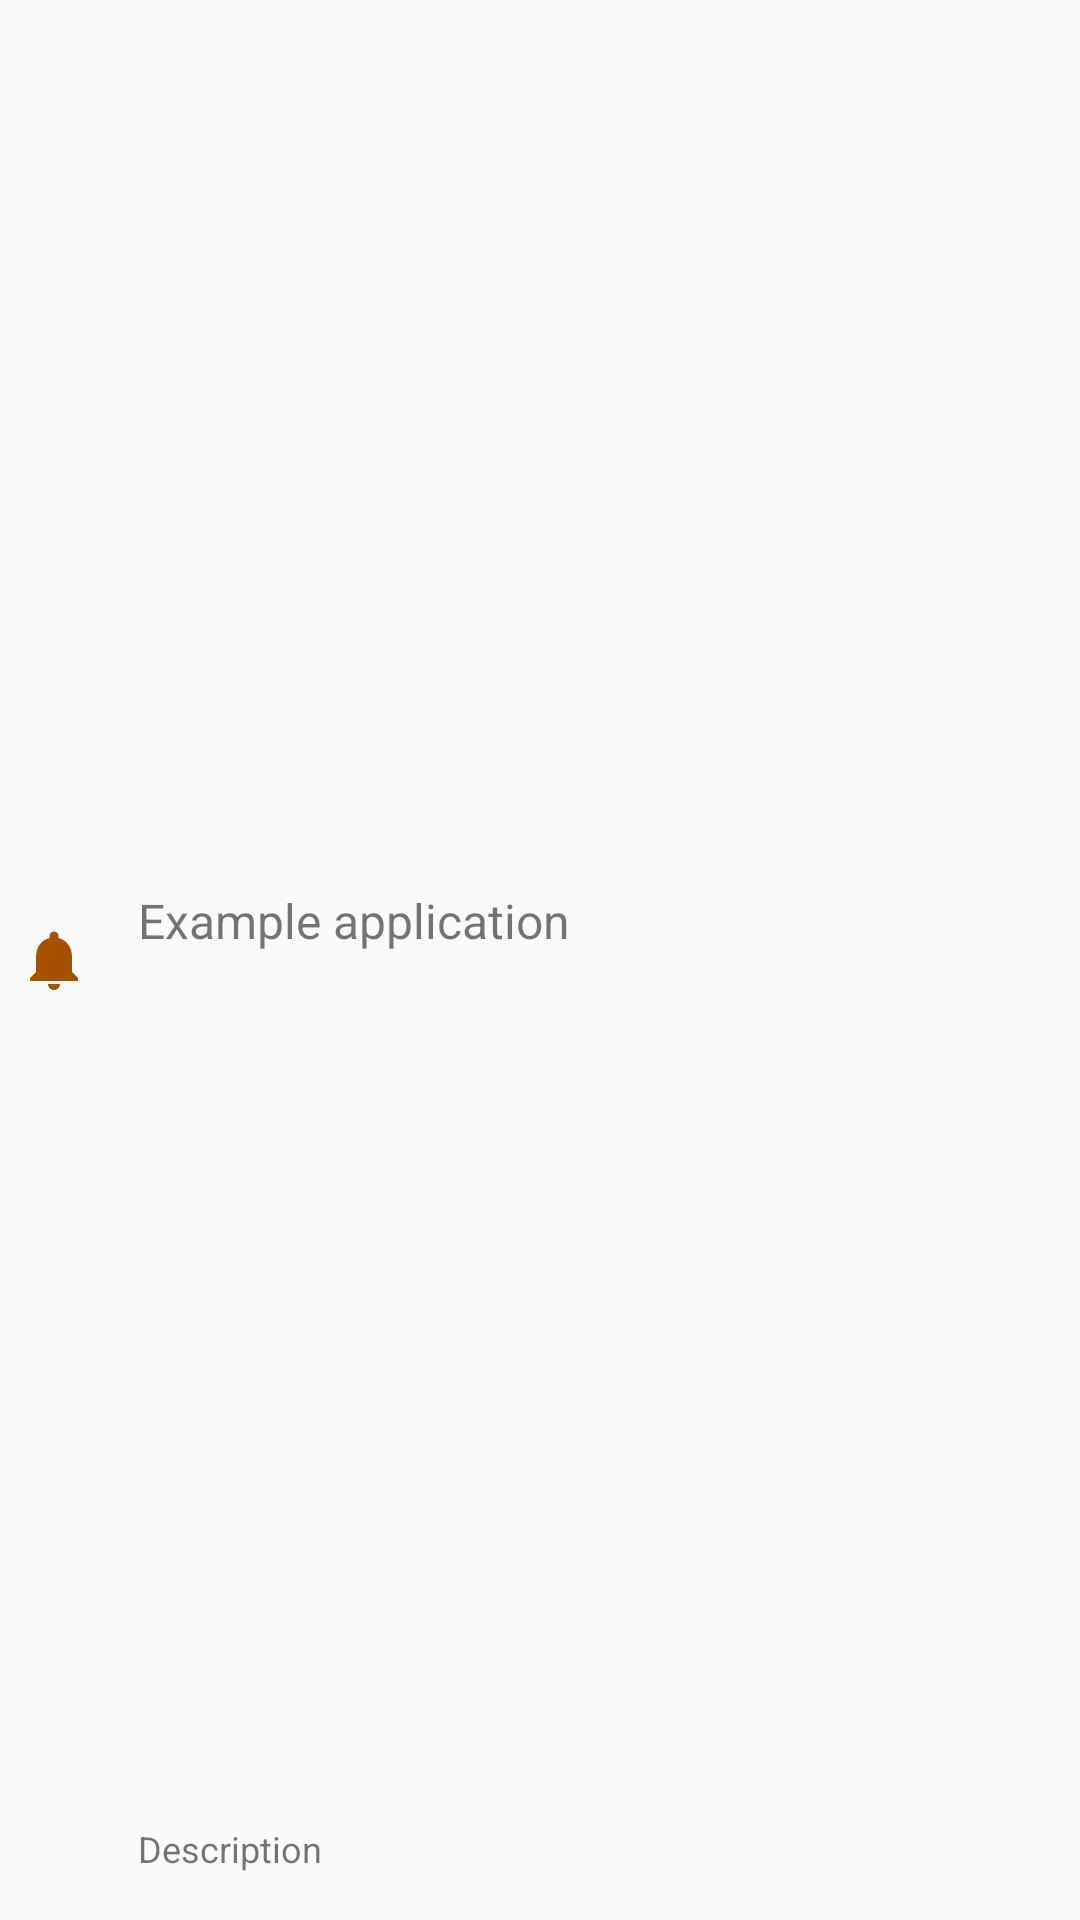

Icon bounding boxes for this 1080 x 1920 phone screenshot, format {"x1": x1, "y1": y1, "x2": x2, "y2": y2}:
notifications: {"x1": 30, "y1": 931, "x2": 78, "y2": 990}
